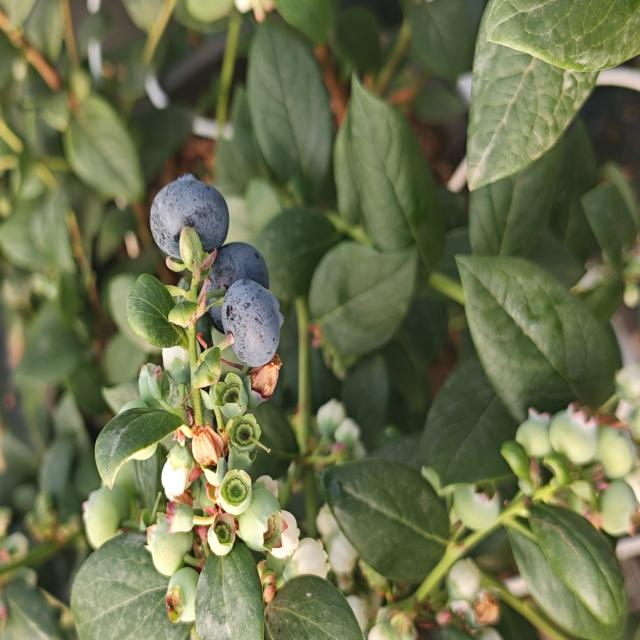ripe: (147, 172, 231, 265), (218, 277, 286, 371), (206, 240, 268, 299)
